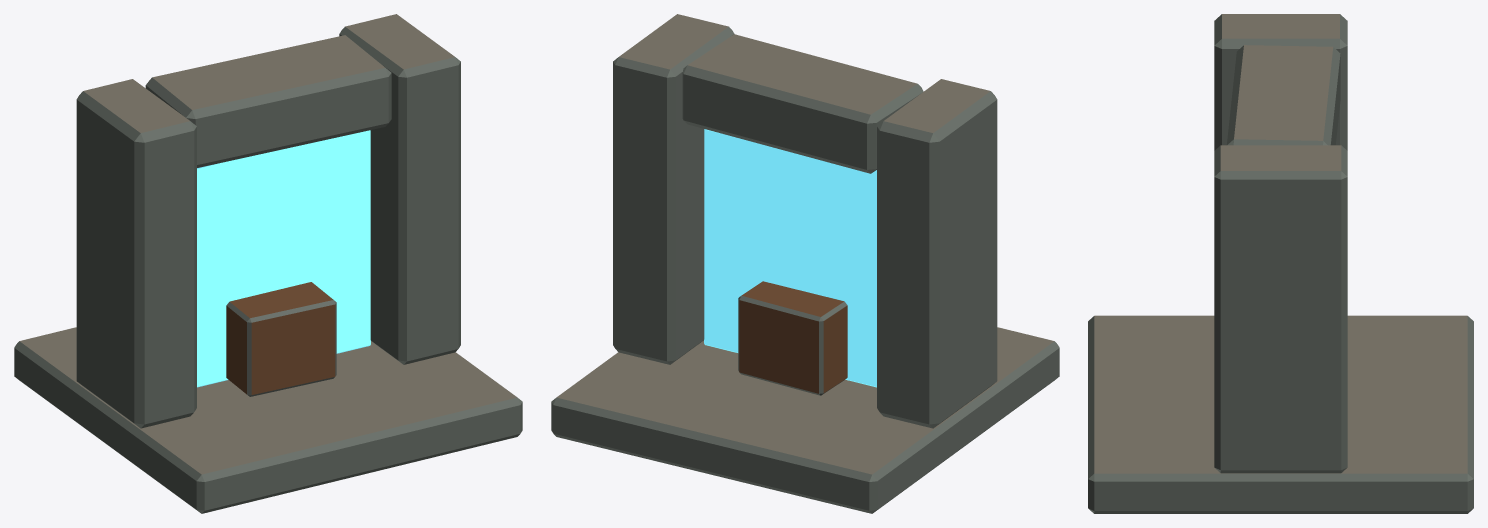
File: R4X_StructuralScanner_LOD1.fbx
The picture shows the model from 3 angles, left to right: view 1: azimuth 30°, elevation 25°; view 2: azimuth 150°, elevation 25°; view 3: azimuth 270°, elevation 25°; orthographic projection. The views are drawn at different scales.
Parts seen in each view (by area): view 1: R4X_StructuralScanner_LOD1; view 2: R4X_StructuralScanner_LOD1; view 3: R4X_StructuralScanner_LOD1.
Boxes of the visible parts, x1,y1,x2,y2 form: R4X_StructuralScanner_LOD1: (14,14,522,513); R4X_StructuralScanner_LOD1: (551,14,1059,513); R4X_StructuralScanner_LOD1: (1088,14,1473,513).
Bounding box in the file's own units: 0.52 × 0.51 × 0.52.
